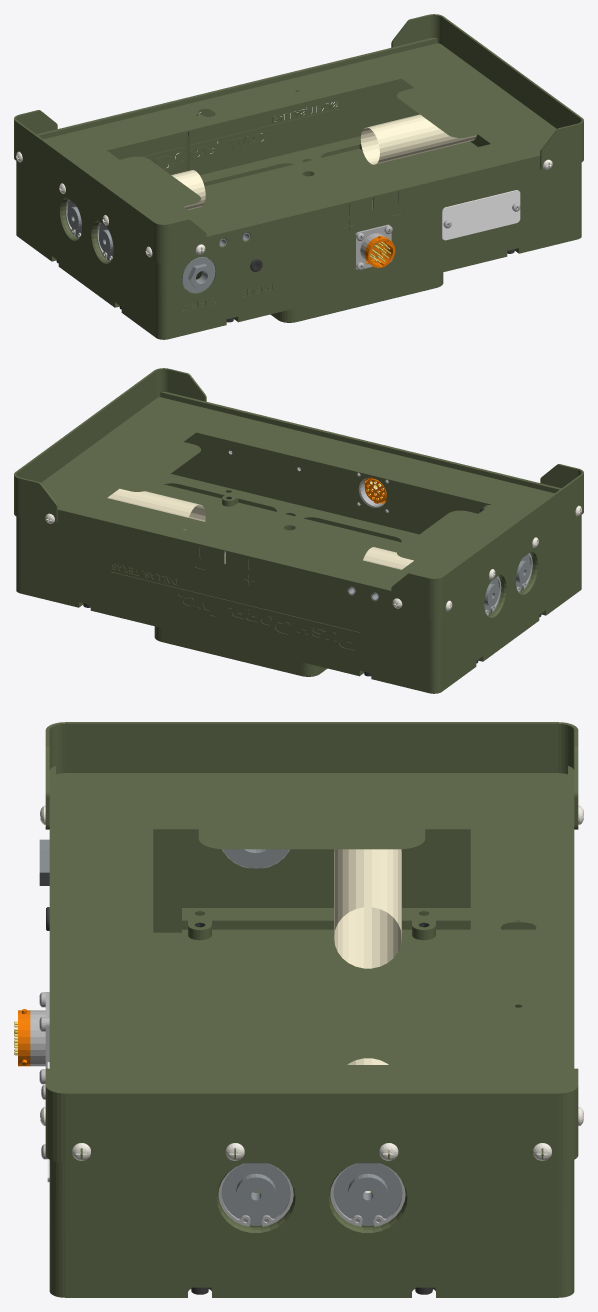
The model's file is afd620_base.dae.
3 renders of one model, top to bottom at view 1: azimuth 30°, elevation 25°; view 2: azimuth 150°, elevation 25°; view 3: azimuth 270°, elevation 25°, orthographic. The views are drawn at different scales.
Visible parts, largest first — view 1: node1, node68, node57, node50, node42, node65, node77, node35, node13, node15, node43; view 2: node1, node68, node57, node50, node77, node42, node43; view 3: node1, node68, node50, node57, node43, node45, node46, node6, node15, node40, node13.
Part boxes in pixels (left/top/right/bottom): node1: left=16, top=38, right=581, bottom=327; node68: left=16, top=136, right=581, bottom=339; node57: left=14, top=110, right=206, bottom=263; node50: left=391, top=14, right=583, bottom=171; node42: left=360, top=114, right=476, bottom=164; node65: left=442, top=190, right=520, bottom=240; node77: left=270, top=171, right=443, bottom=322; node35: left=182, top=257, right=215, bottom=292; node13: left=364, top=235, right=395, bottom=267; node15: left=355, top=224, right=391, bottom=269; node43: left=171, top=170, right=205, bottom=209; node1: left=16, top=392, right=581, bottom=681; node68: left=16, top=474, right=581, bottom=693; node57: left=391, top=464, right=583, bottom=617; node50: left=14, top=368, right=206, bottom=525; node77: left=154, top=525, right=327, bottom=676; node42: left=107, top=488, right=205, bottom=530; node43: left=363, top=547, right=413, bottom=569; node1: left=49, top=766, right=574, bottom=1275; node68: left=49, top=908, right=574, bottom=1297; node50: left=45, top=1068, right=578, bottom=1163; node57: left=45, top=722, right=578, bottom=829; node43: left=334, top=849, right=401, bottom=968; node45: left=221, top=1163, right=290, bottom=1225; node46: left=333, top=1163, right=402, bottom=1225; node6: left=153, top=853, right=181, bottom=932; node15: left=30, top=992, right=49, bottom=1068; node40: left=223, top=849, right=289, bottom=868; node13: left=18, top=1009, right=30, bottom=1066.
Size of the model in its own units: 0.3532 by 0.2262 by 0.106.
